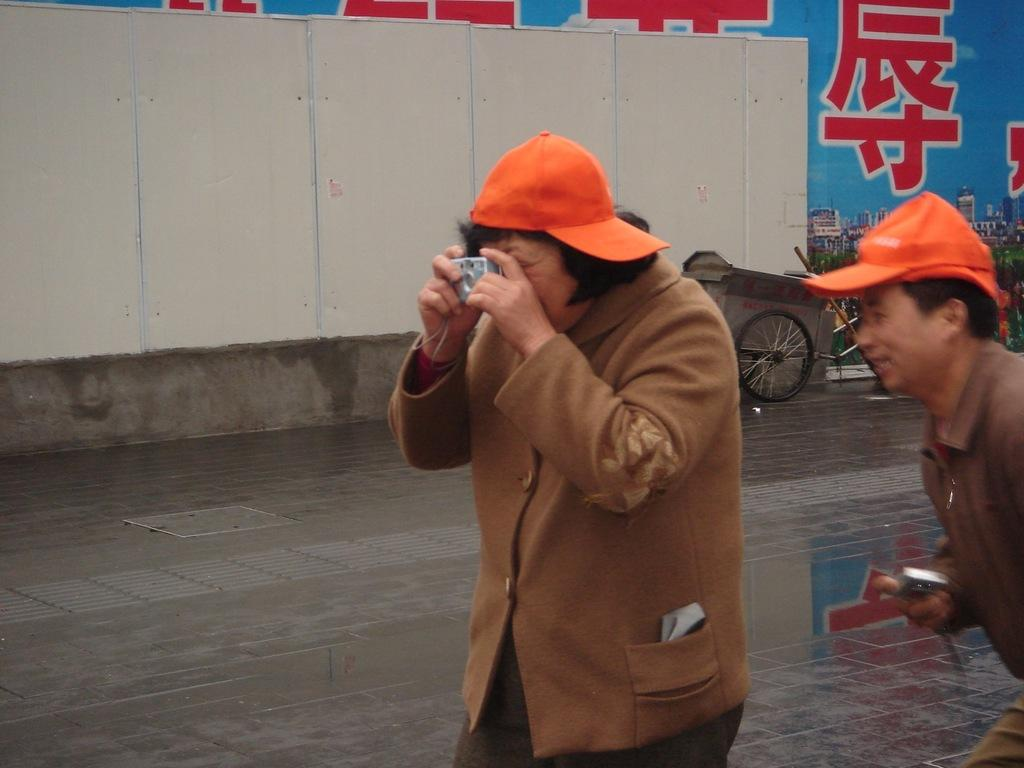Hat: (468, 130, 672, 265), (800, 188, 1000, 304)
